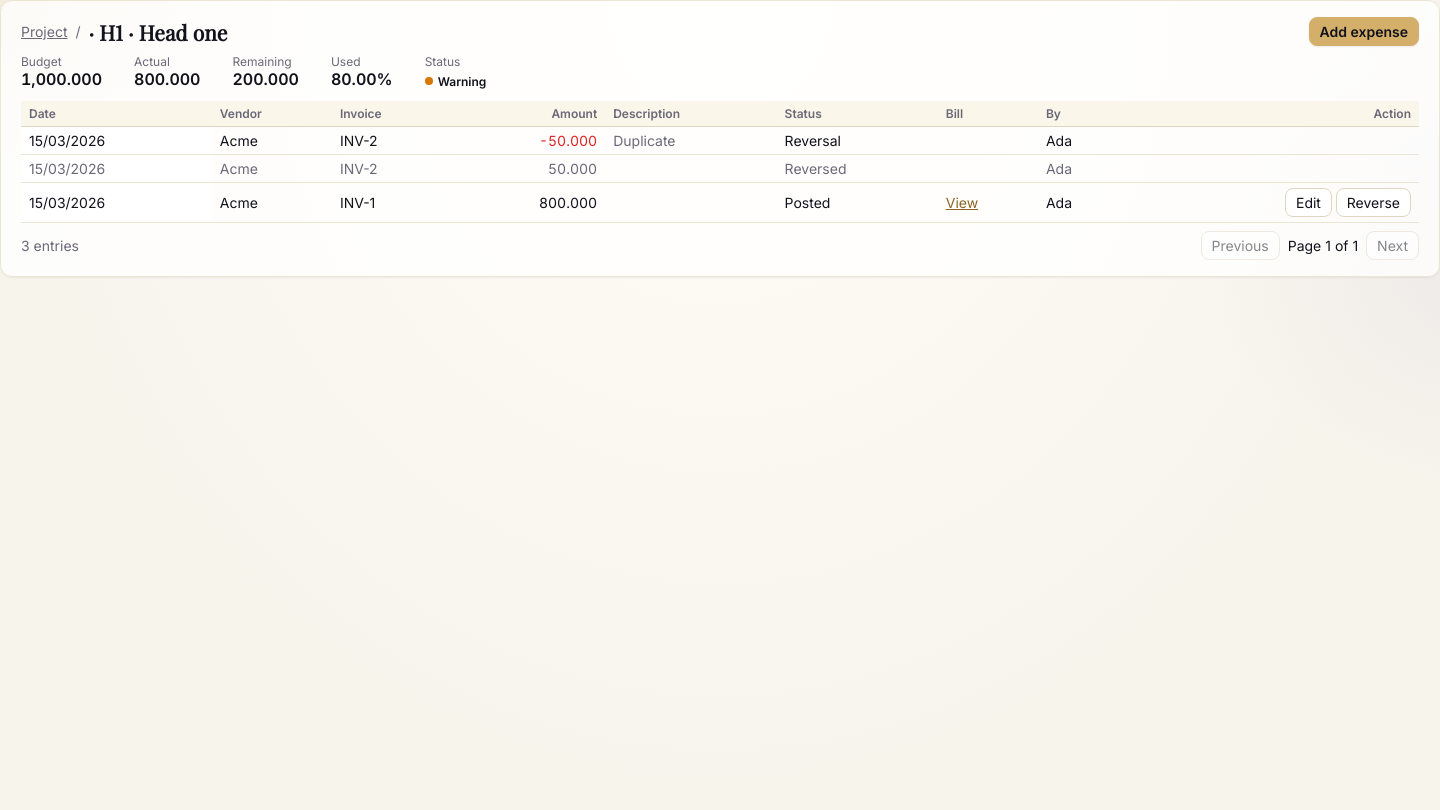
Expense detail › tapping an expense shows its full record, bill and history
Click the text "INV-1": coordinates (720, 202) x1=21 y1=182 x2=1419 y2=222
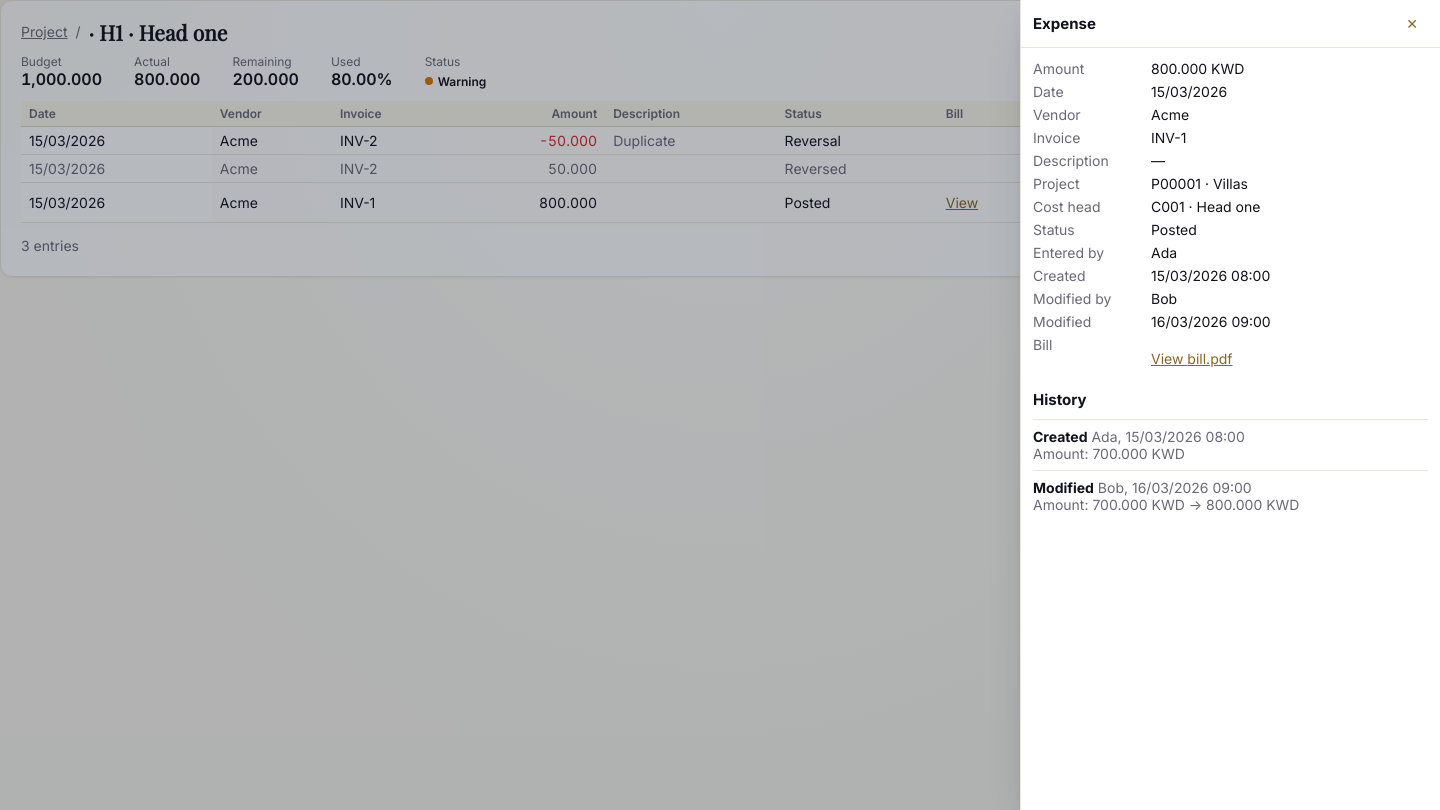
Check: the list named "History" shows "Amount: 700.000 KWD → 800.000 KWD", box x1=1033 y1=496 x2=1300 y2=513
Check: the text "P00001 · Villas" is shown, box x1=1151 y1=175 x2=1248 y2=192
Check: the text "C001 · Head one" is shown, box x1=1151 y1=198 x2=1260 y2=215
